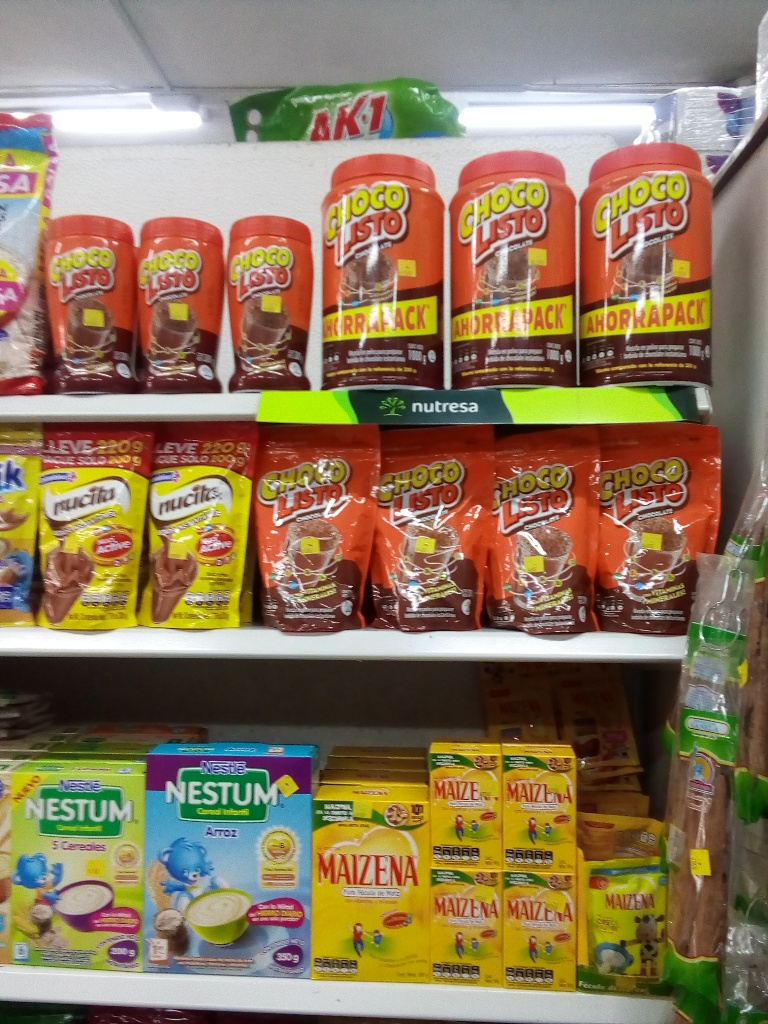COL0170103TRR00100: (315, 156, 446, 391)
